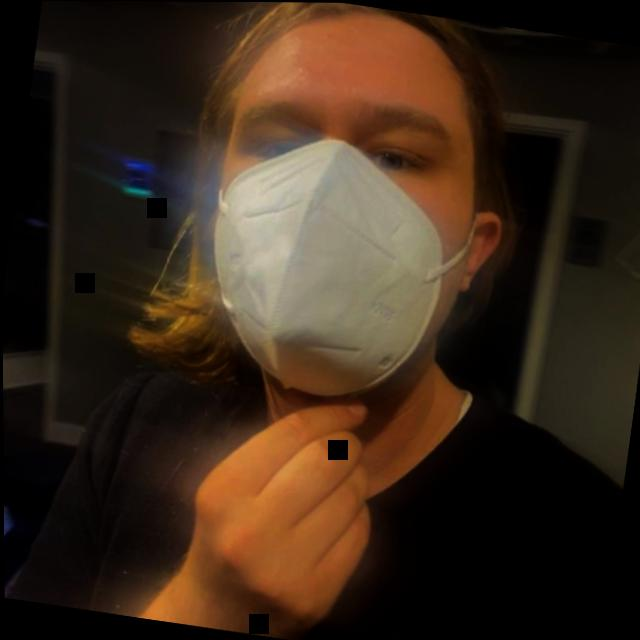Mask: (109, 1, 571, 459)
